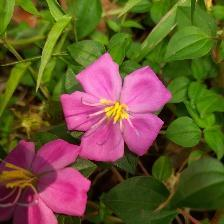malabar melastome: (60, 54, 174, 164)
